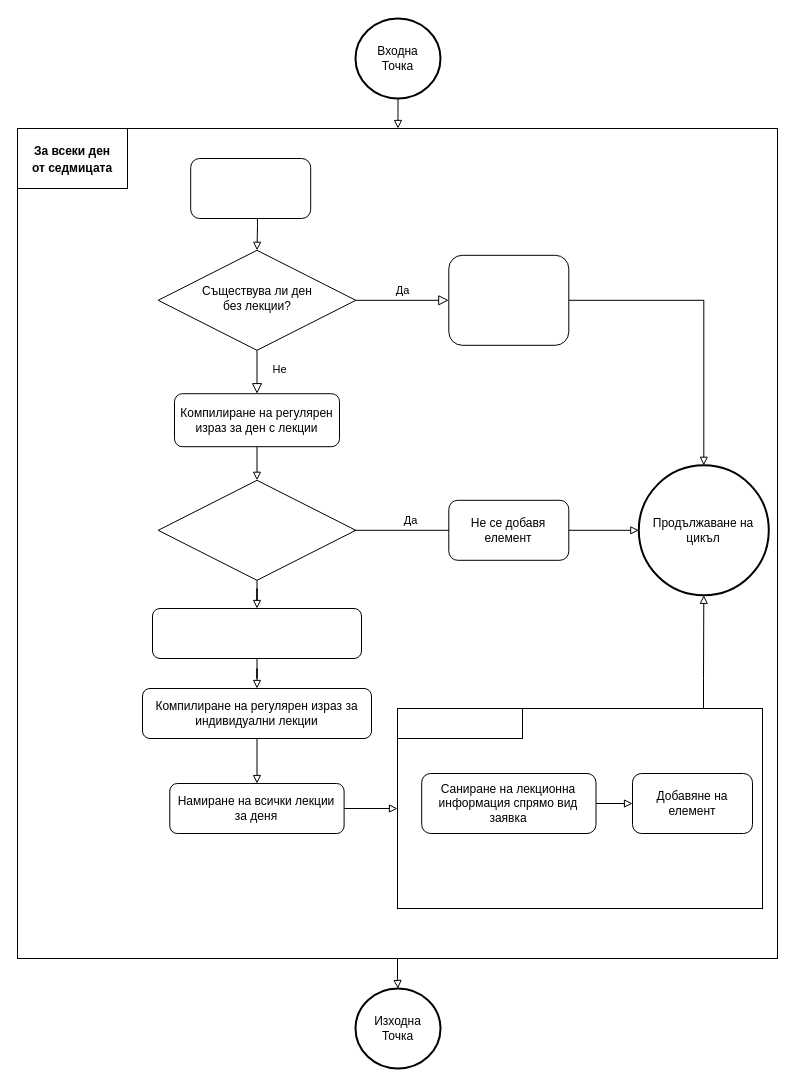
The diagram is 795 pixels wide and 1086 high, and some of its shapes have lost their labels. The centre of each missing label's shape, as x and y in pixels:
"Добавяне на нов ден DayData.py с празен масив от лекции" goes at pixel 508 299.
"За всяка лекция" goes at pixel 459 723.
"Извличане на индивидуалната структура за деня" goes at pixel 257 633.
"Компилиране на регулярен израз за ден без лекции" goes at pixel 250 188.
"Съществува ли ден с лекции?" goes at pixel 256 529.
